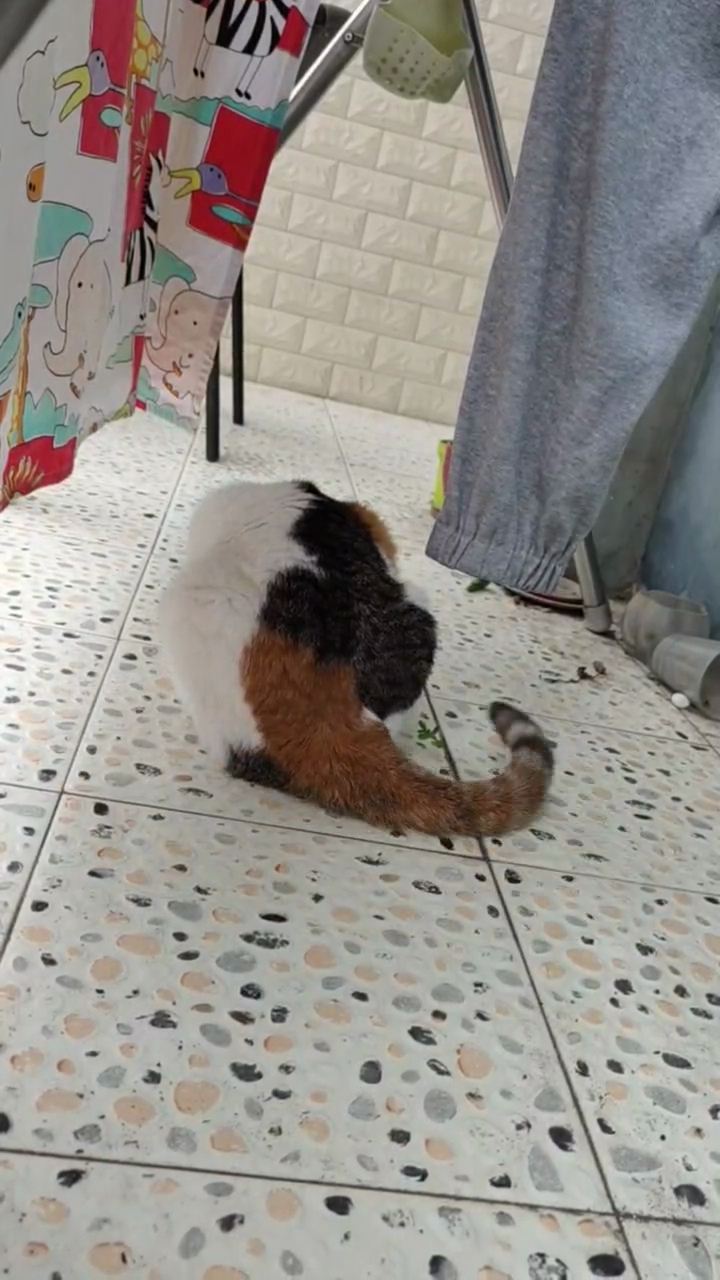花: (98, 8, 688, 1267)
